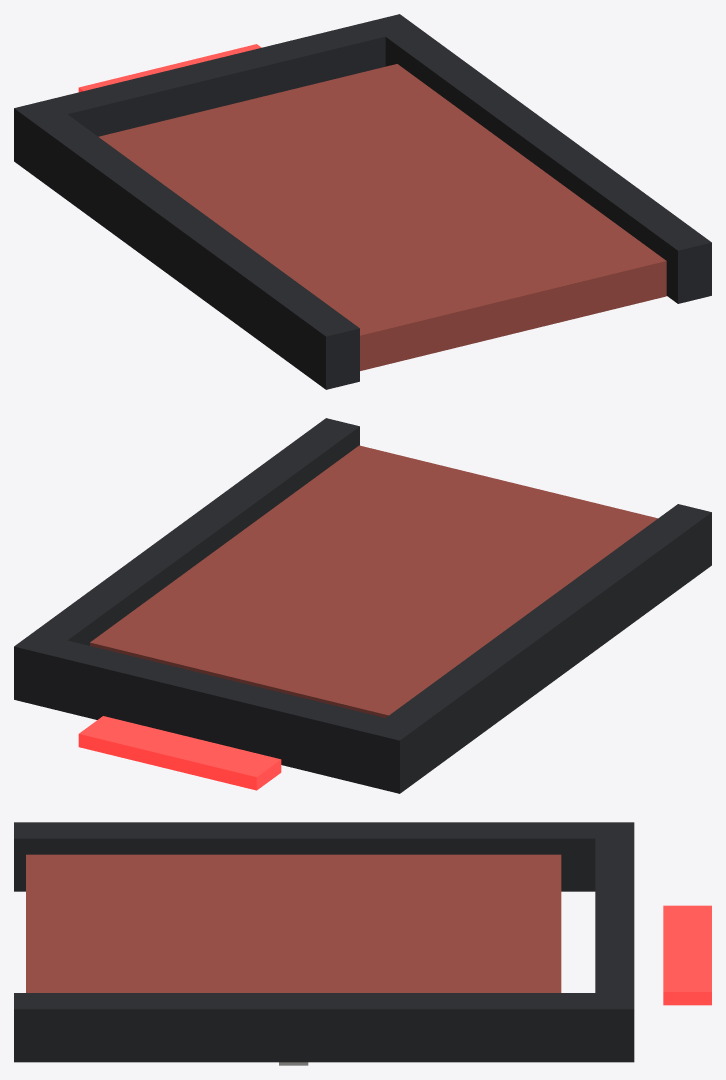
File: rusty_door.glb
3 renders of one model, top to bottom at view 1: azimuth 30°, elevation 25°; view 2: azimuth 150°, elevation 25°; view 3: azimuth 270°, elevation 25°, orthographic.
Visible parts, largest first — view 1: door_panel, frame_left, frame_top, frame_right, red_panel; view 2: door_panel, frame_top, frame_left, frame_right, red_panel; view 3: door_panel, frame_right, frame_left, frame_top, red_panel.
Part boxes in pixels (x1,y1,x2,y2): door_panel: [98, 64, 666, 370]; frame_left: [30, 111, 359, 389]; frame_top: [14, 14, 418, 175]; frame_right: [382, 25, 711, 303]; red_panel: [78, 44, 261, 92]; door_panel: [90, 445, 657, 717]; frame_top: [14, 634, 419, 793]; frame_left: [382, 504, 711, 779]; frame_right: [30, 418, 359, 645]; red_panel: [78, 716, 281, 790]; door_panel: [26, 854, 561, 992]; frame_right: [14, 993, 602, 1062]; frame_left: [14, 822, 602, 891]; frame_top: [595, 822, 634, 1062]; red_panel: [663, 905, 711, 1005].
Size of the model in its own units: 1.82 by 0.4 by 2.87.
